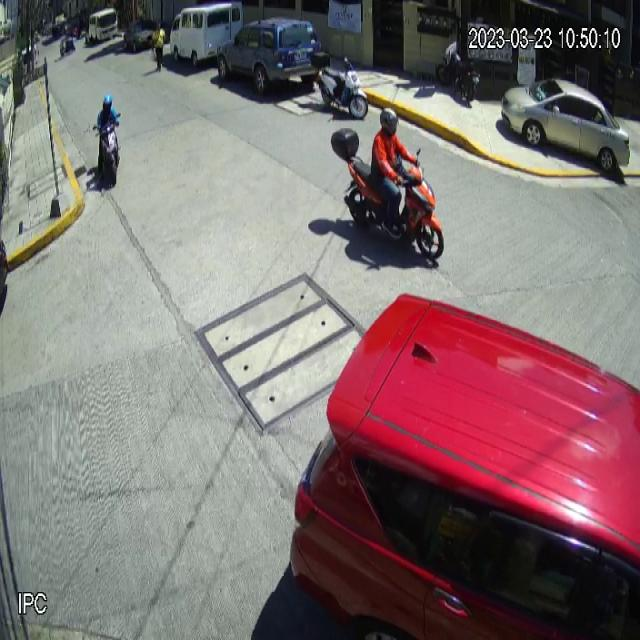Car: (289, 288, 639, 640), (501, 78, 630, 171), (216, 16, 323, 96)
Motorcycle: (328, 124, 446, 266), (309, 49, 369, 120), (92, 111, 122, 188)
Van: (169, 0, 242, 69)
